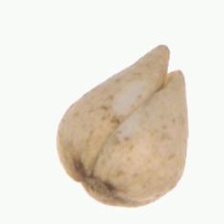L1: (67, 168, 117, 206), (154, 43, 184, 93)
L2: (55, 45, 188, 209)
